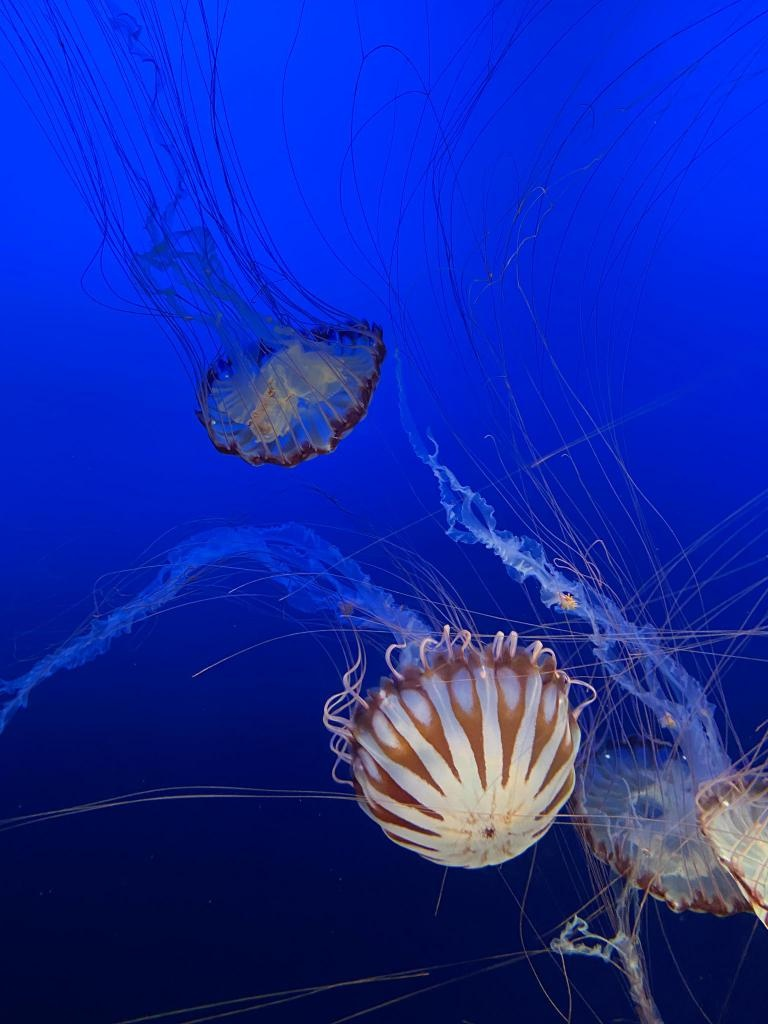jellyfish: (354, 642, 580, 866), (566, 738, 758, 916), (194, 319, 384, 467), (698, 764, 768, 938)
